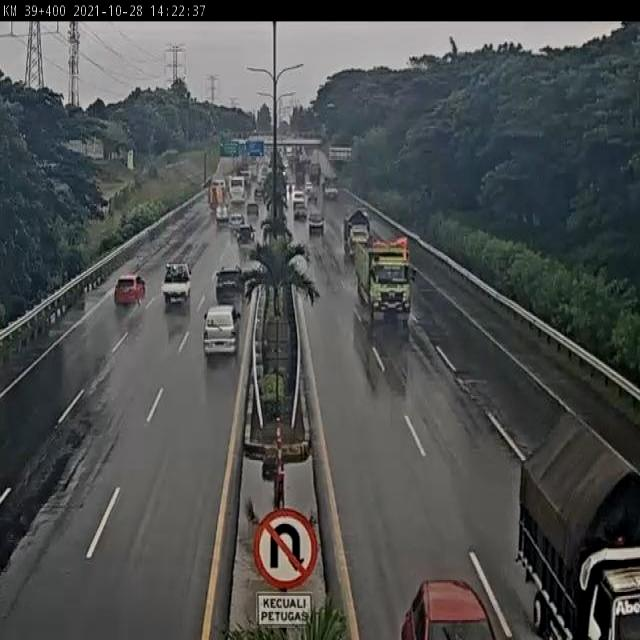Bus: (227, 172, 249, 205)
Car: (401, 580, 496, 640), (158, 260, 194, 308), (112, 273, 146, 311), (236, 223, 258, 247), (308, 212, 326, 236), (229, 212, 244, 234), (245, 203, 261, 220), (294, 204, 309, 222)
Truck: (517, 412, 640, 640), (352, 236, 417, 324), (343, 210, 373, 260), (207, 175, 225, 210)
Van: (204, 304, 242, 364)
